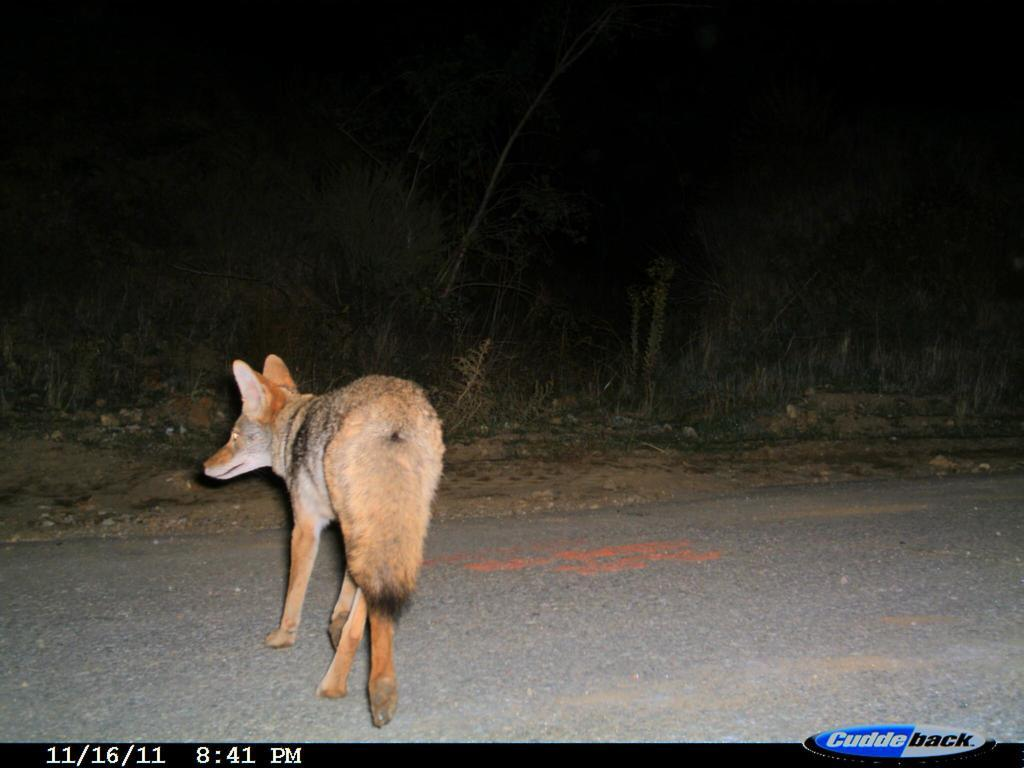coyote: (196, 336, 463, 729)
